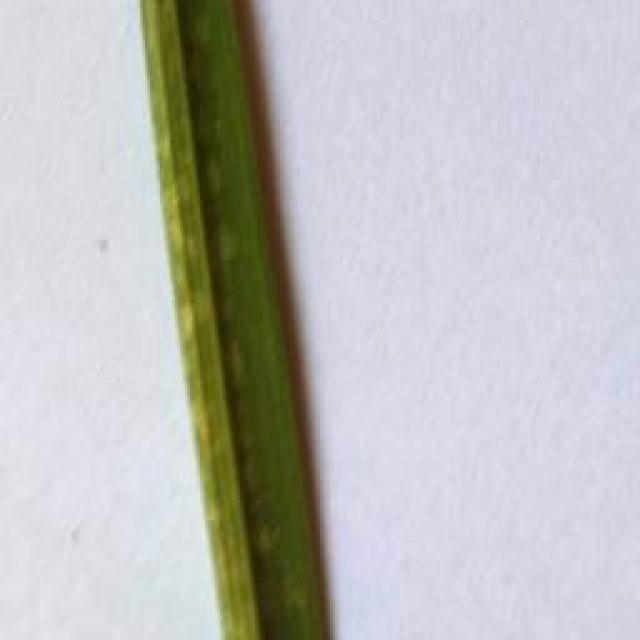Healthy-Plant: (141, 0, 339, 640)
